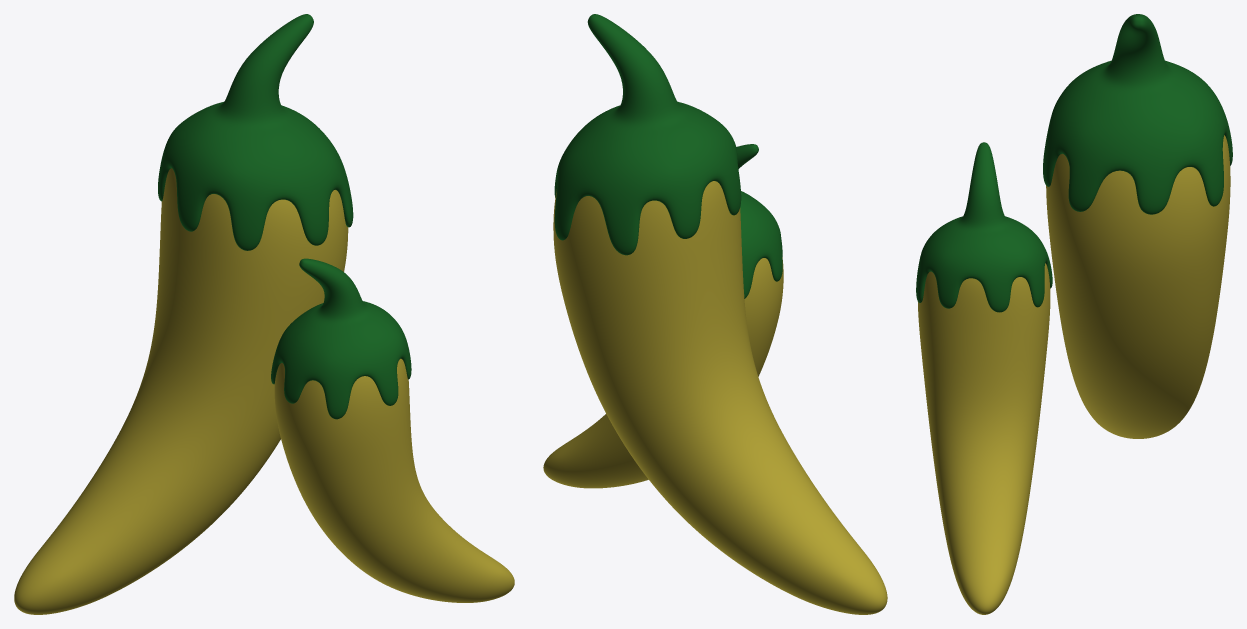
Rendered from yellow chili.fbx.
The picture shows the model from 3 angles, left to right: view 1: azimuth 30°, elevation 25°; view 2: azimuth 150°, elevation 25°; view 3: azimuth 270°, elevation 25°; orthographic projection.
Visible parts, largest first — view 1: Cube.004, Cube.001, Cube.002, Cube.003; view 2: Cube.004, Cube.002, Cube.001, Cube.003; view 3: Cube.004, Cube.001, Cube.002, Cube.003.
Part boxes in pixels (x1,y1,x2,y2): Cube.004: [14, 168, 348, 614]; Cube.001: [274, 358, 514, 602]; Cube.002: [158, 14, 353, 250]; Cube.003: [271, 258, 411, 419]; Cube.004: [553, 181, 887, 614]; Cube.002: [554, 14, 741, 255]; Cube.001: [543, 257, 783, 488]; Cube.003: [736, 144, 782, 298]; Cube.004: [1046, 135, 1230, 438]; Cube.001: [918, 263, 1050, 614]; Cube.002: [1043, 14, 1232, 214]; Cube.003: [916, 142, 1052, 312].
Bounding box in the file's own units: 132 × 167 × 88.13.
